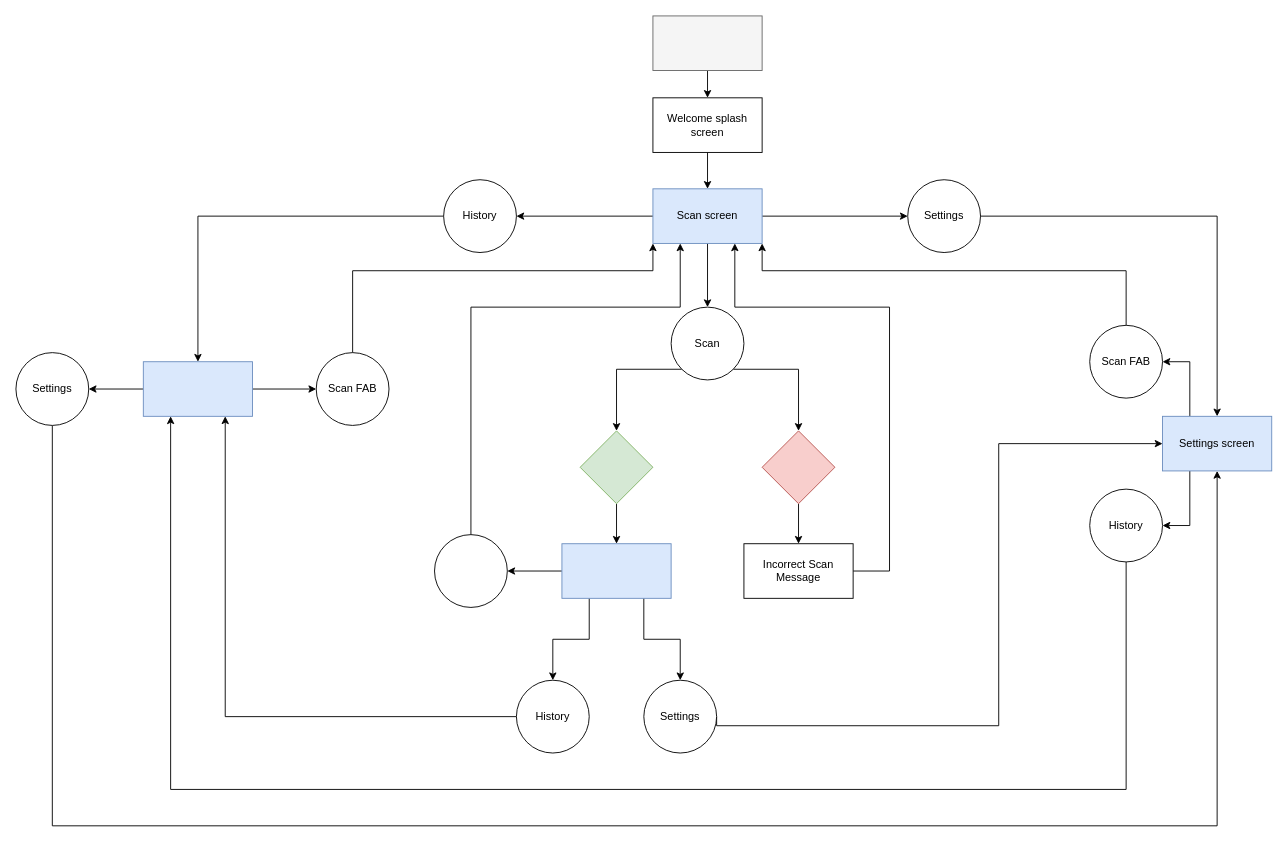
Image size: 1288x849. Some labels were removed from this diagram. The box of each missing label's shape, as (x1, y1, x2, y2) in pixels:
App Startup: (652, 15, 762, 71)
Correct Scan: (579, 430, 653, 504)
Detailed New Scan screen: (561, 543, 671, 598)
History screen: (142, 361, 253, 416)
Incorrect Scan: (761, 430, 835, 504)
Scan FAB + Back: (434, 534, 507, 607)
